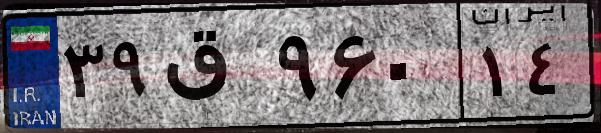0: (385, 28, 445, 110)
1: (475, 38, 525, 113)
3: (57, 26, 110, 100)
4: (525, 38, 570, 115)
6: (330, 28, 385, 110)
9: (270, 28, 330, 110), (110, 28, 158, 98)
ق: (158, 20, 270, 120)
